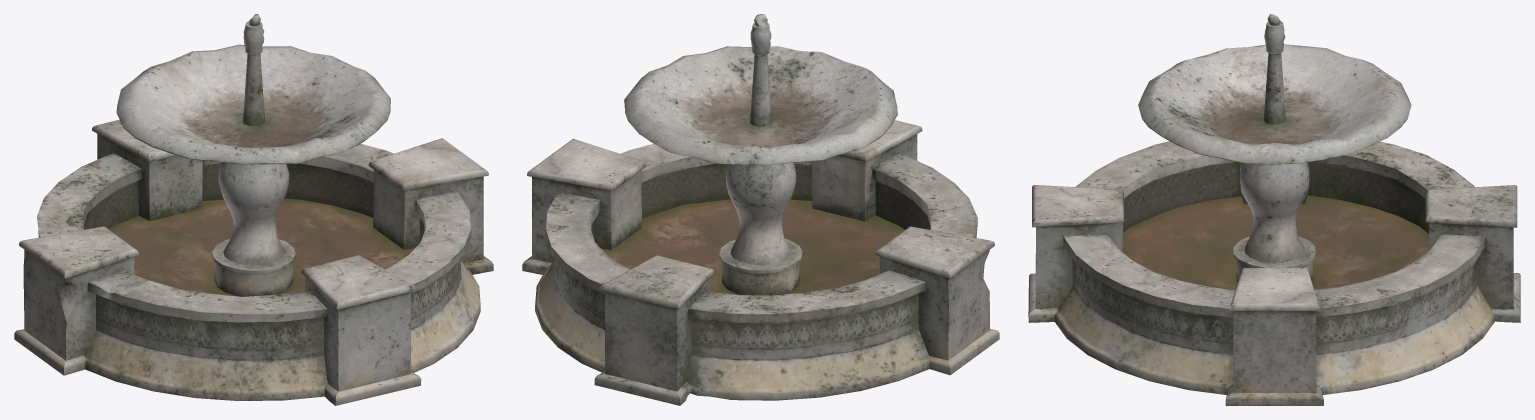
The model's file is fountain.glb.
3 renders of one model, left to right at view 1: azimuth 30°, elevation 25°; view 2: azimuth 150°, elevation 25°; view 3: azimuth 270°, elevation 25°, orthographic.
Visible parts, largest first — view 1: fontan_low; view 2: fontan_low; view 3: fontan_low.
Boxes of the visible parts, x1,y1,x2,y2 form: fontan_low: (14,14,493,405); fontan_low: (522,14,999,405); fontan_low: (1028,14,1520,405).
Bounding box in the file's own units: 6.99 × 4.51 × 7.
Materials: 1 (1 with a texture image).
